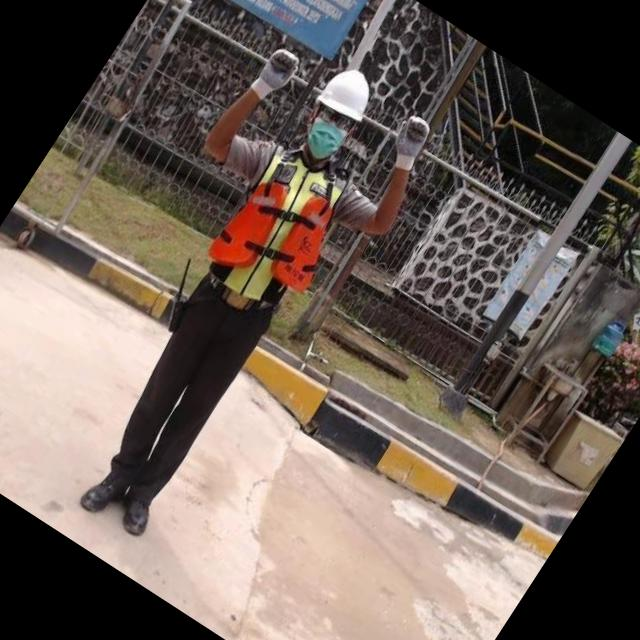hard_hat: (307, 55, 385, 134)
safety_vest: (196, 136, 368, 324)
vehicle: (0, 0, 506, 608)
work_boots: (76, 463, 134, 524), (109, 487, 163, 544)
